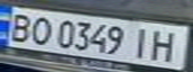0: (51, 17, 75, 50)
3: (72, 19, 93, 52)
4: (90, 20, 109, 55)
9: (106, 22, 130, 56)
B: (3, 10, 36, 43)
H: (145, 27, 184, 63)
I: (127, 25, 157, 60)
O: (24, 13, 57, 46)
